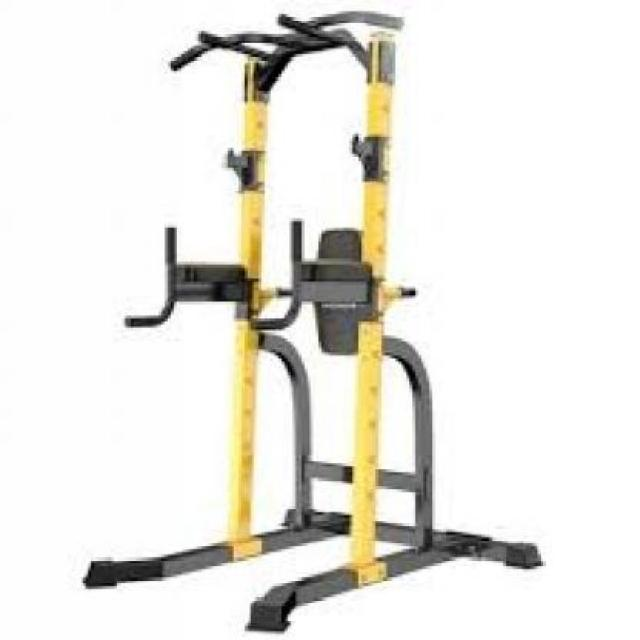chinning dipping: (83, 11, 545, 634)
